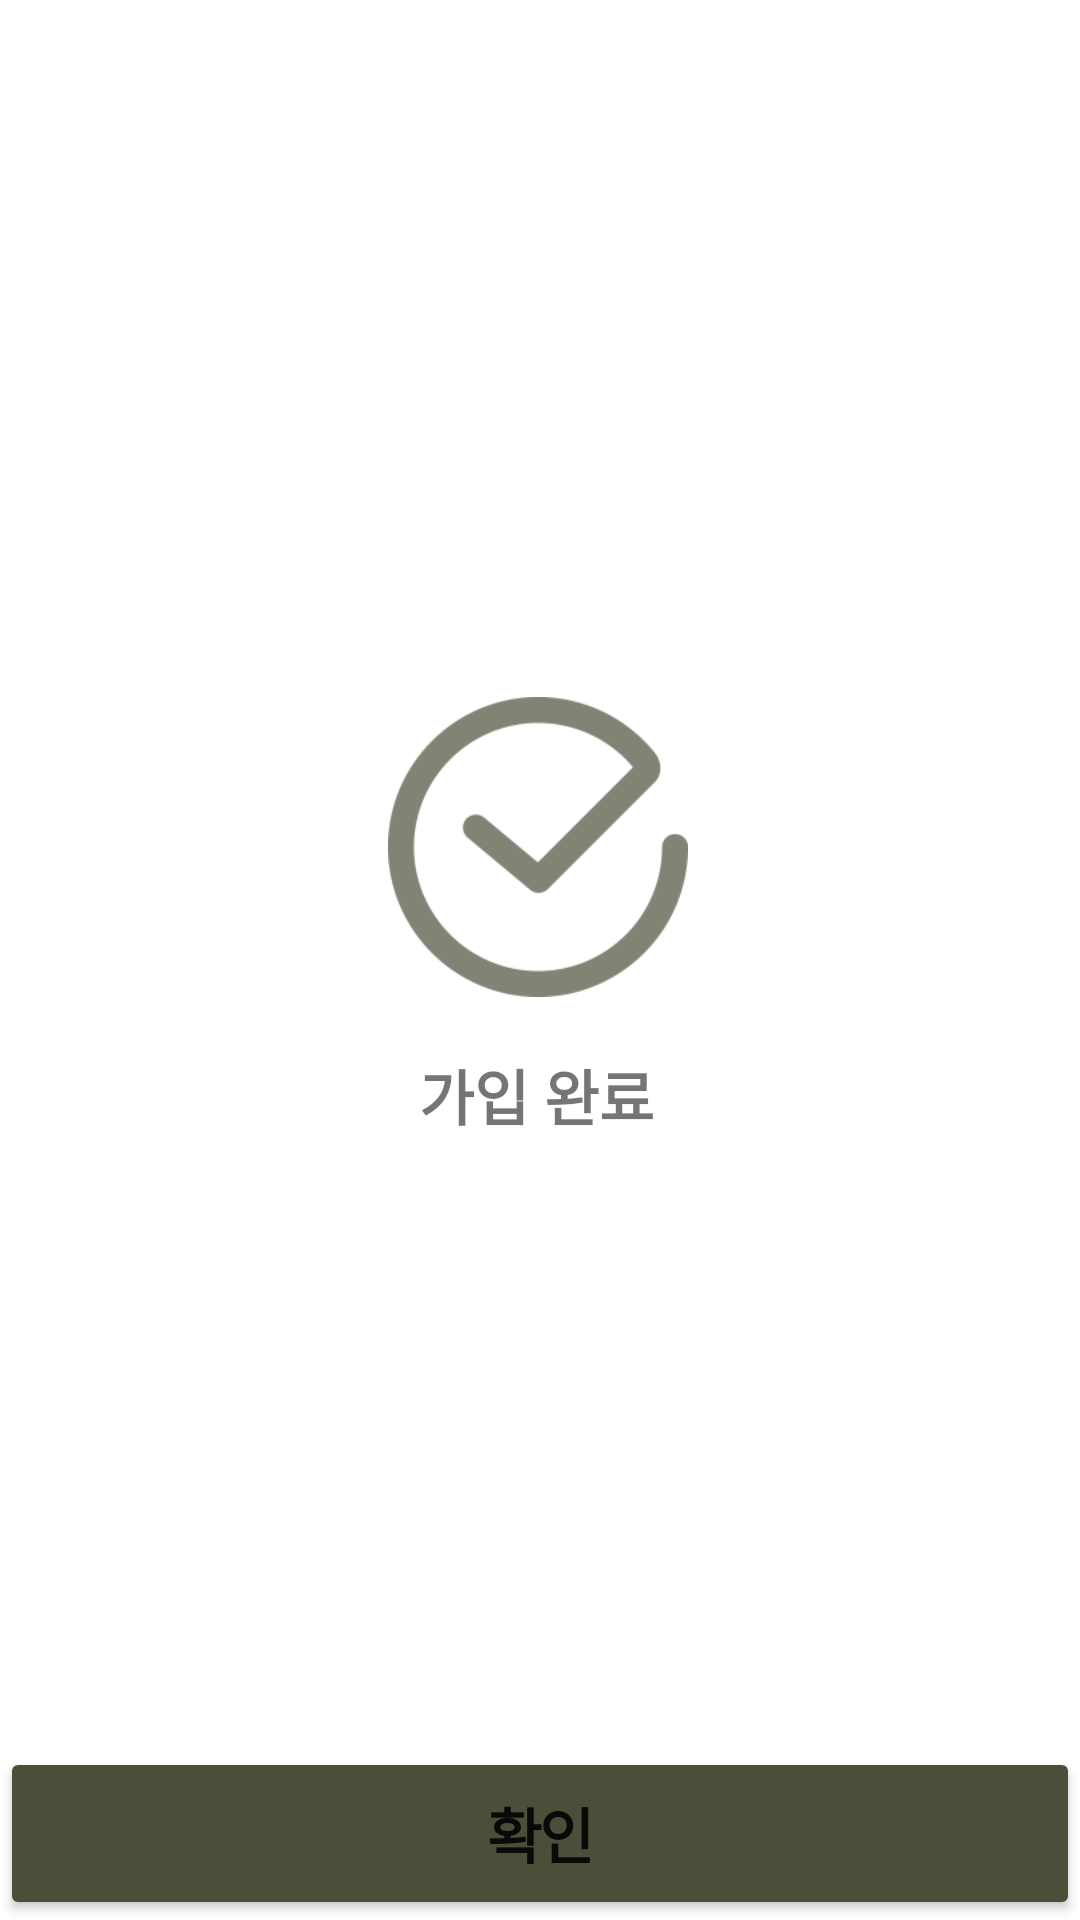

Screen size 1080×1920. Icon name, then its box in pixels as (x1, y1, x2, y2):
success: (388, 697, 688, 997)
